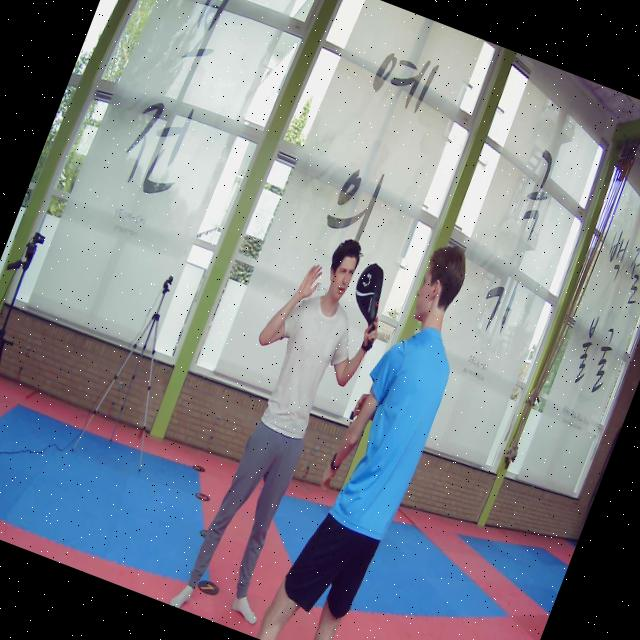paddle: (355, 264, 383, 345)
